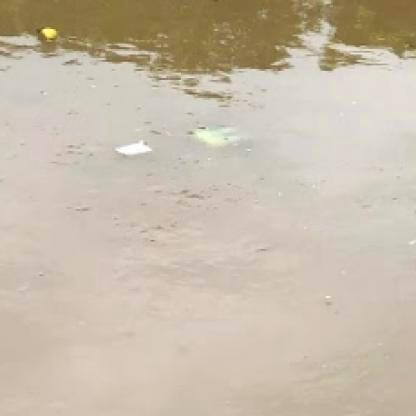Trash: (114, 138, 154, 162)
